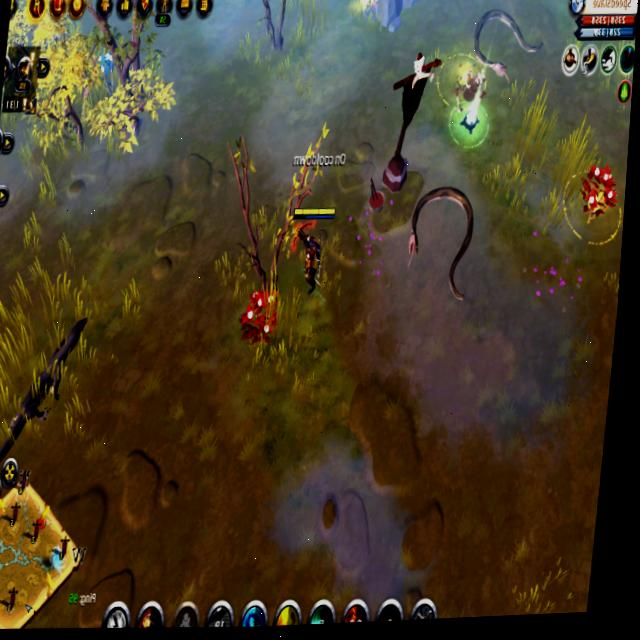hide: (566, 158, 628, 229), (235, 274, 283, 352)
ore: (0, 296, 96, 503)
red: (280, 195, 340, 306)
